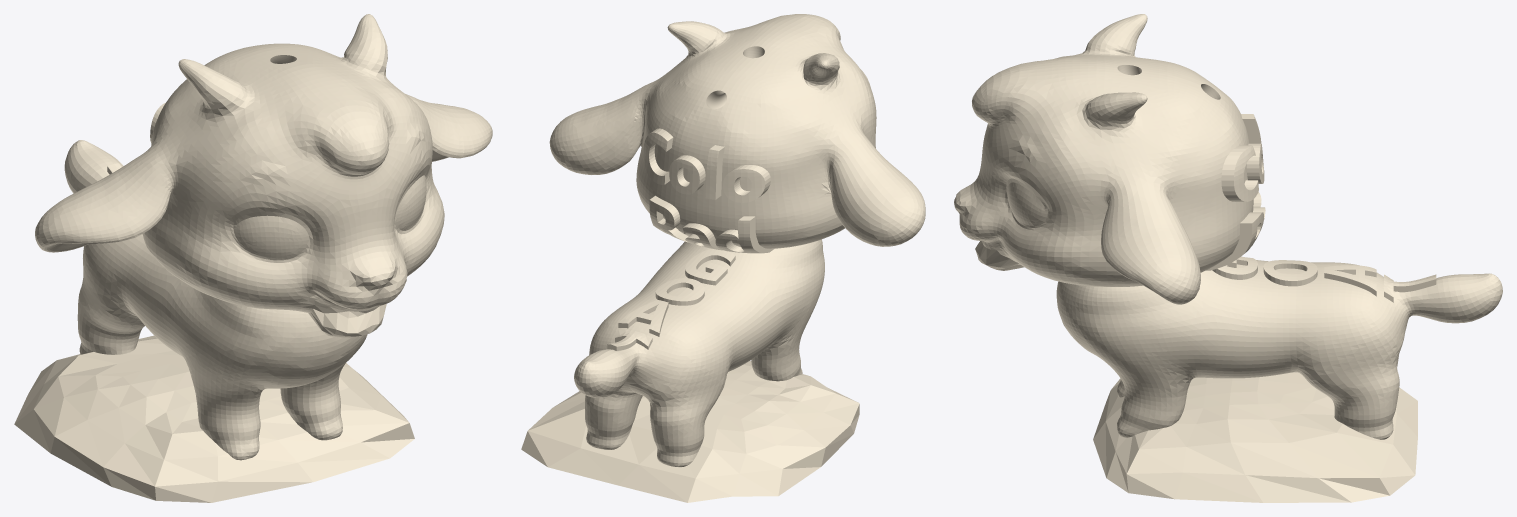
File: colo-rad-goat.glb
The picture shows the model from 3 angles, left to right: view 1: azimuth 30°, elevation 25°; view 2: azimuth 150°, elevation 25°; view 3: azimuth 270°, elevation 25°; orthographic projection. The views are drawn at different scales.
Visible parts, largest first — view 1: colo-rad-goat; view 2: colo-rad-goat; view 3: colo-rad-goat.
Part boxes in pixels (x1,y1,x2,y2): colo-rad-goat: (14,14,492,502); colo-rad-goat: (521,14,925,502); colo-rad-goat: (954,14,1502,502).
Size of the model in its own units: 37.02 by 34.24 by 44.07.
